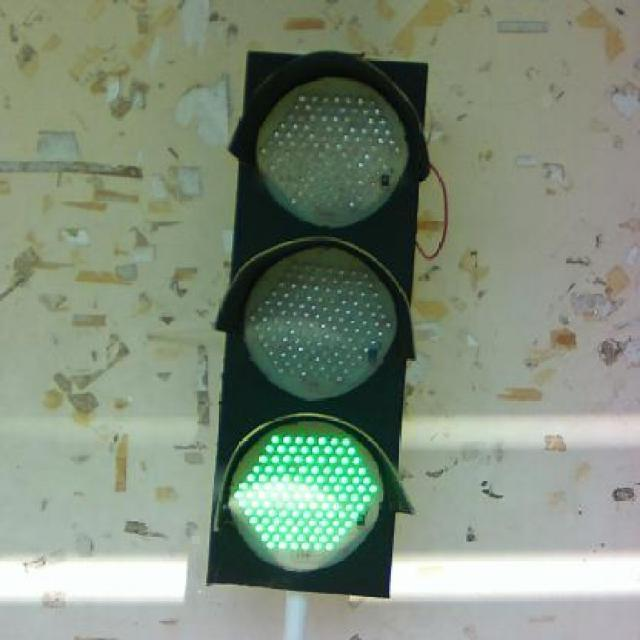green_light: (206, 50, 428, 595)
